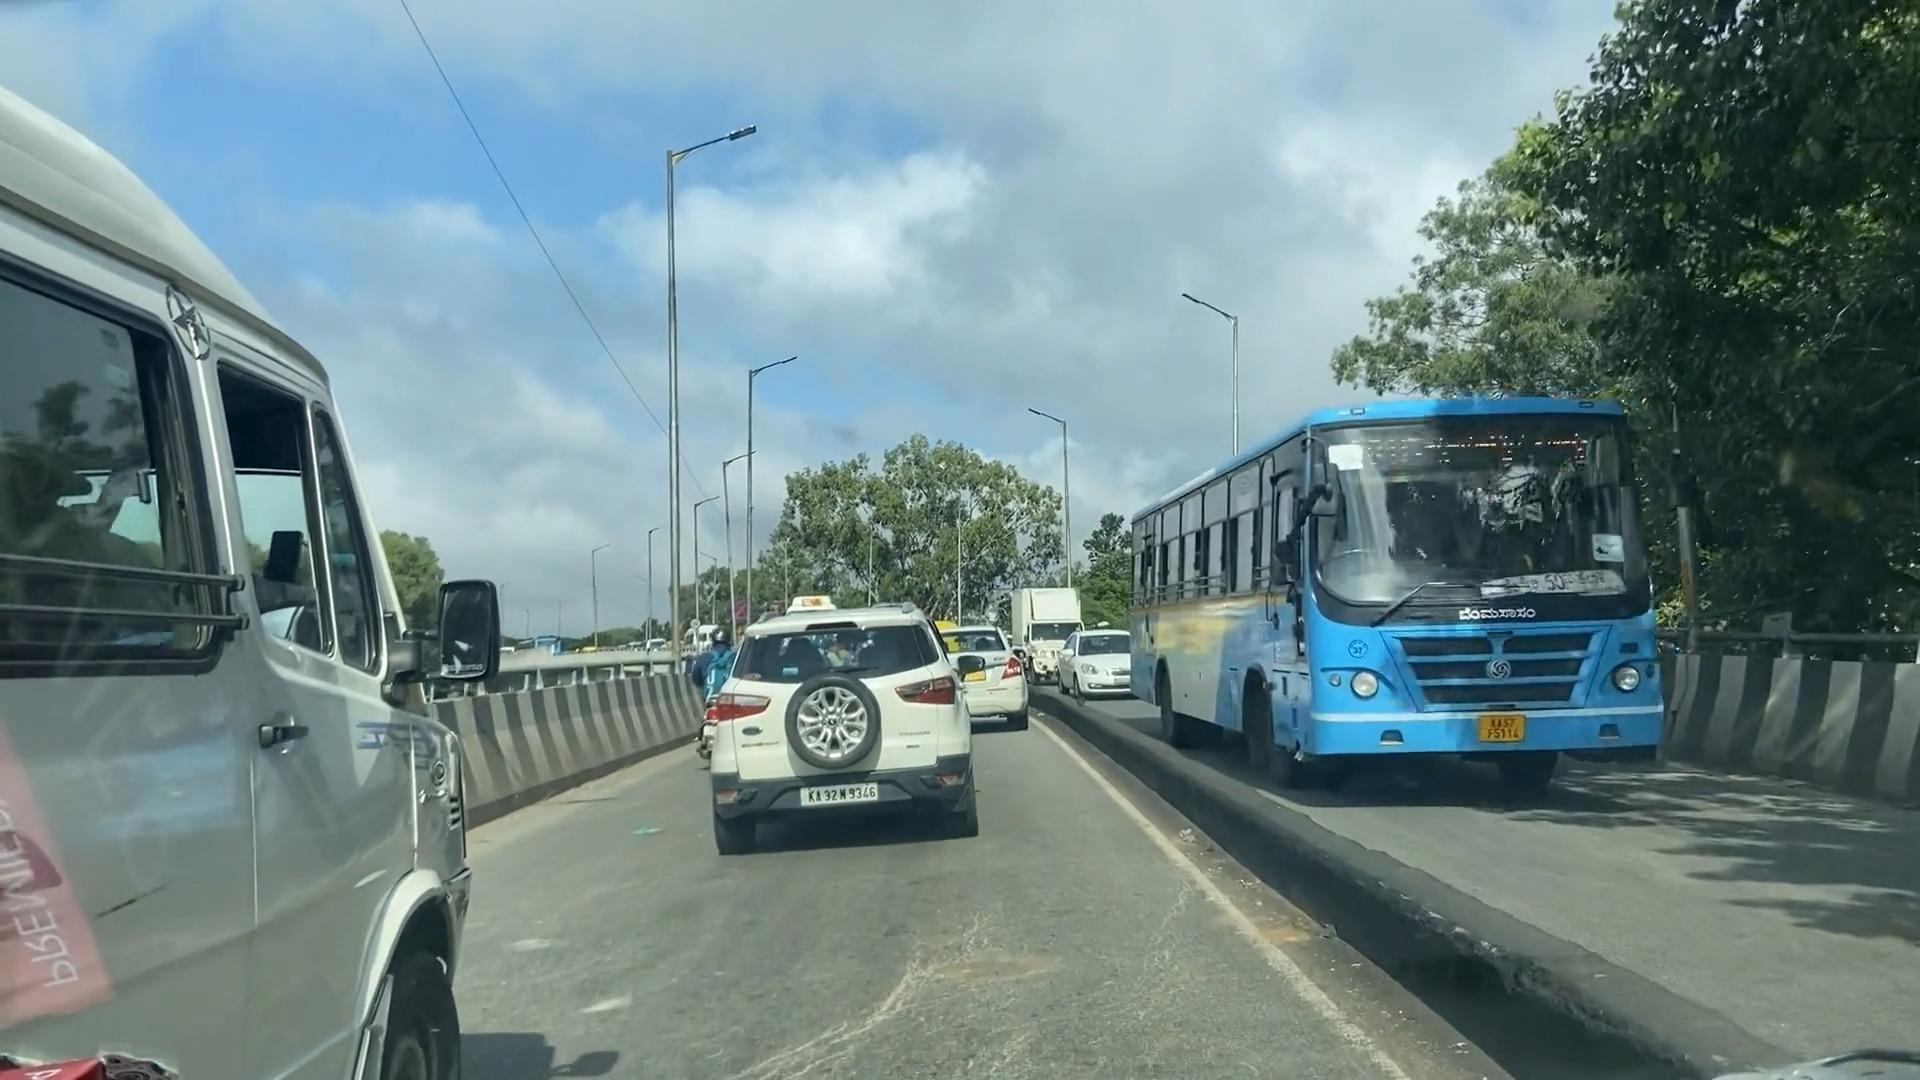LMV: (700, 612, 971, 824)
UnsurfacedRoad: (820, 926, 1065, 1064)
